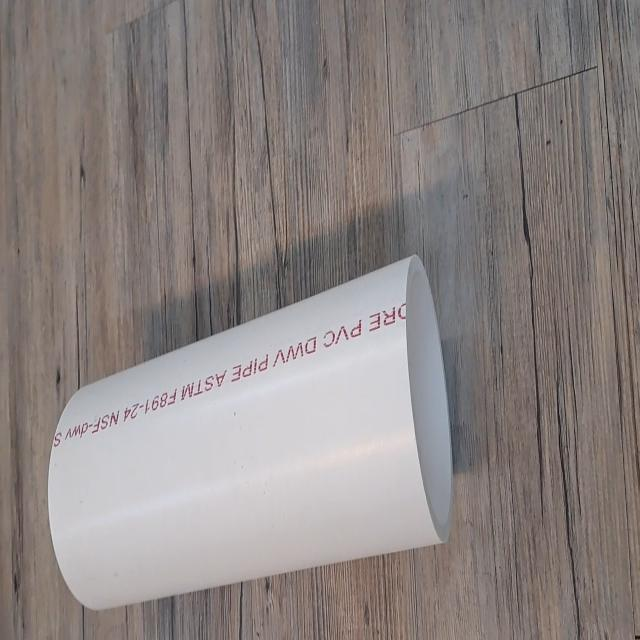CORAL: (42, 245, 458, 611)
